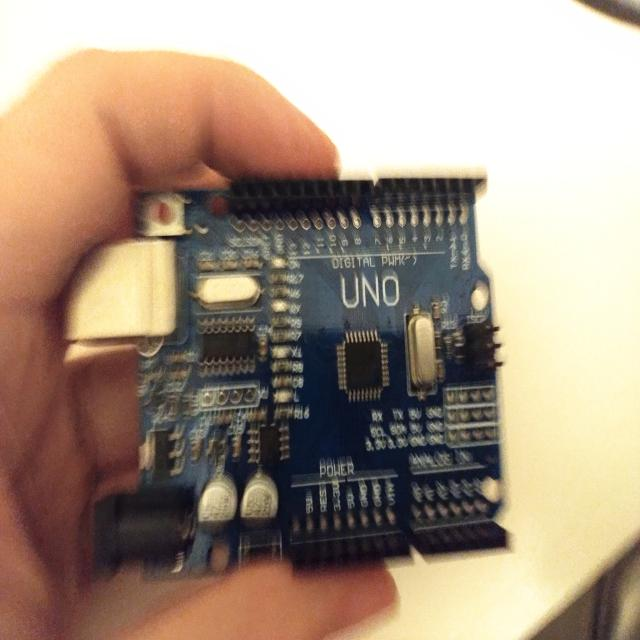arduino: (58, 167, 518, 576)
